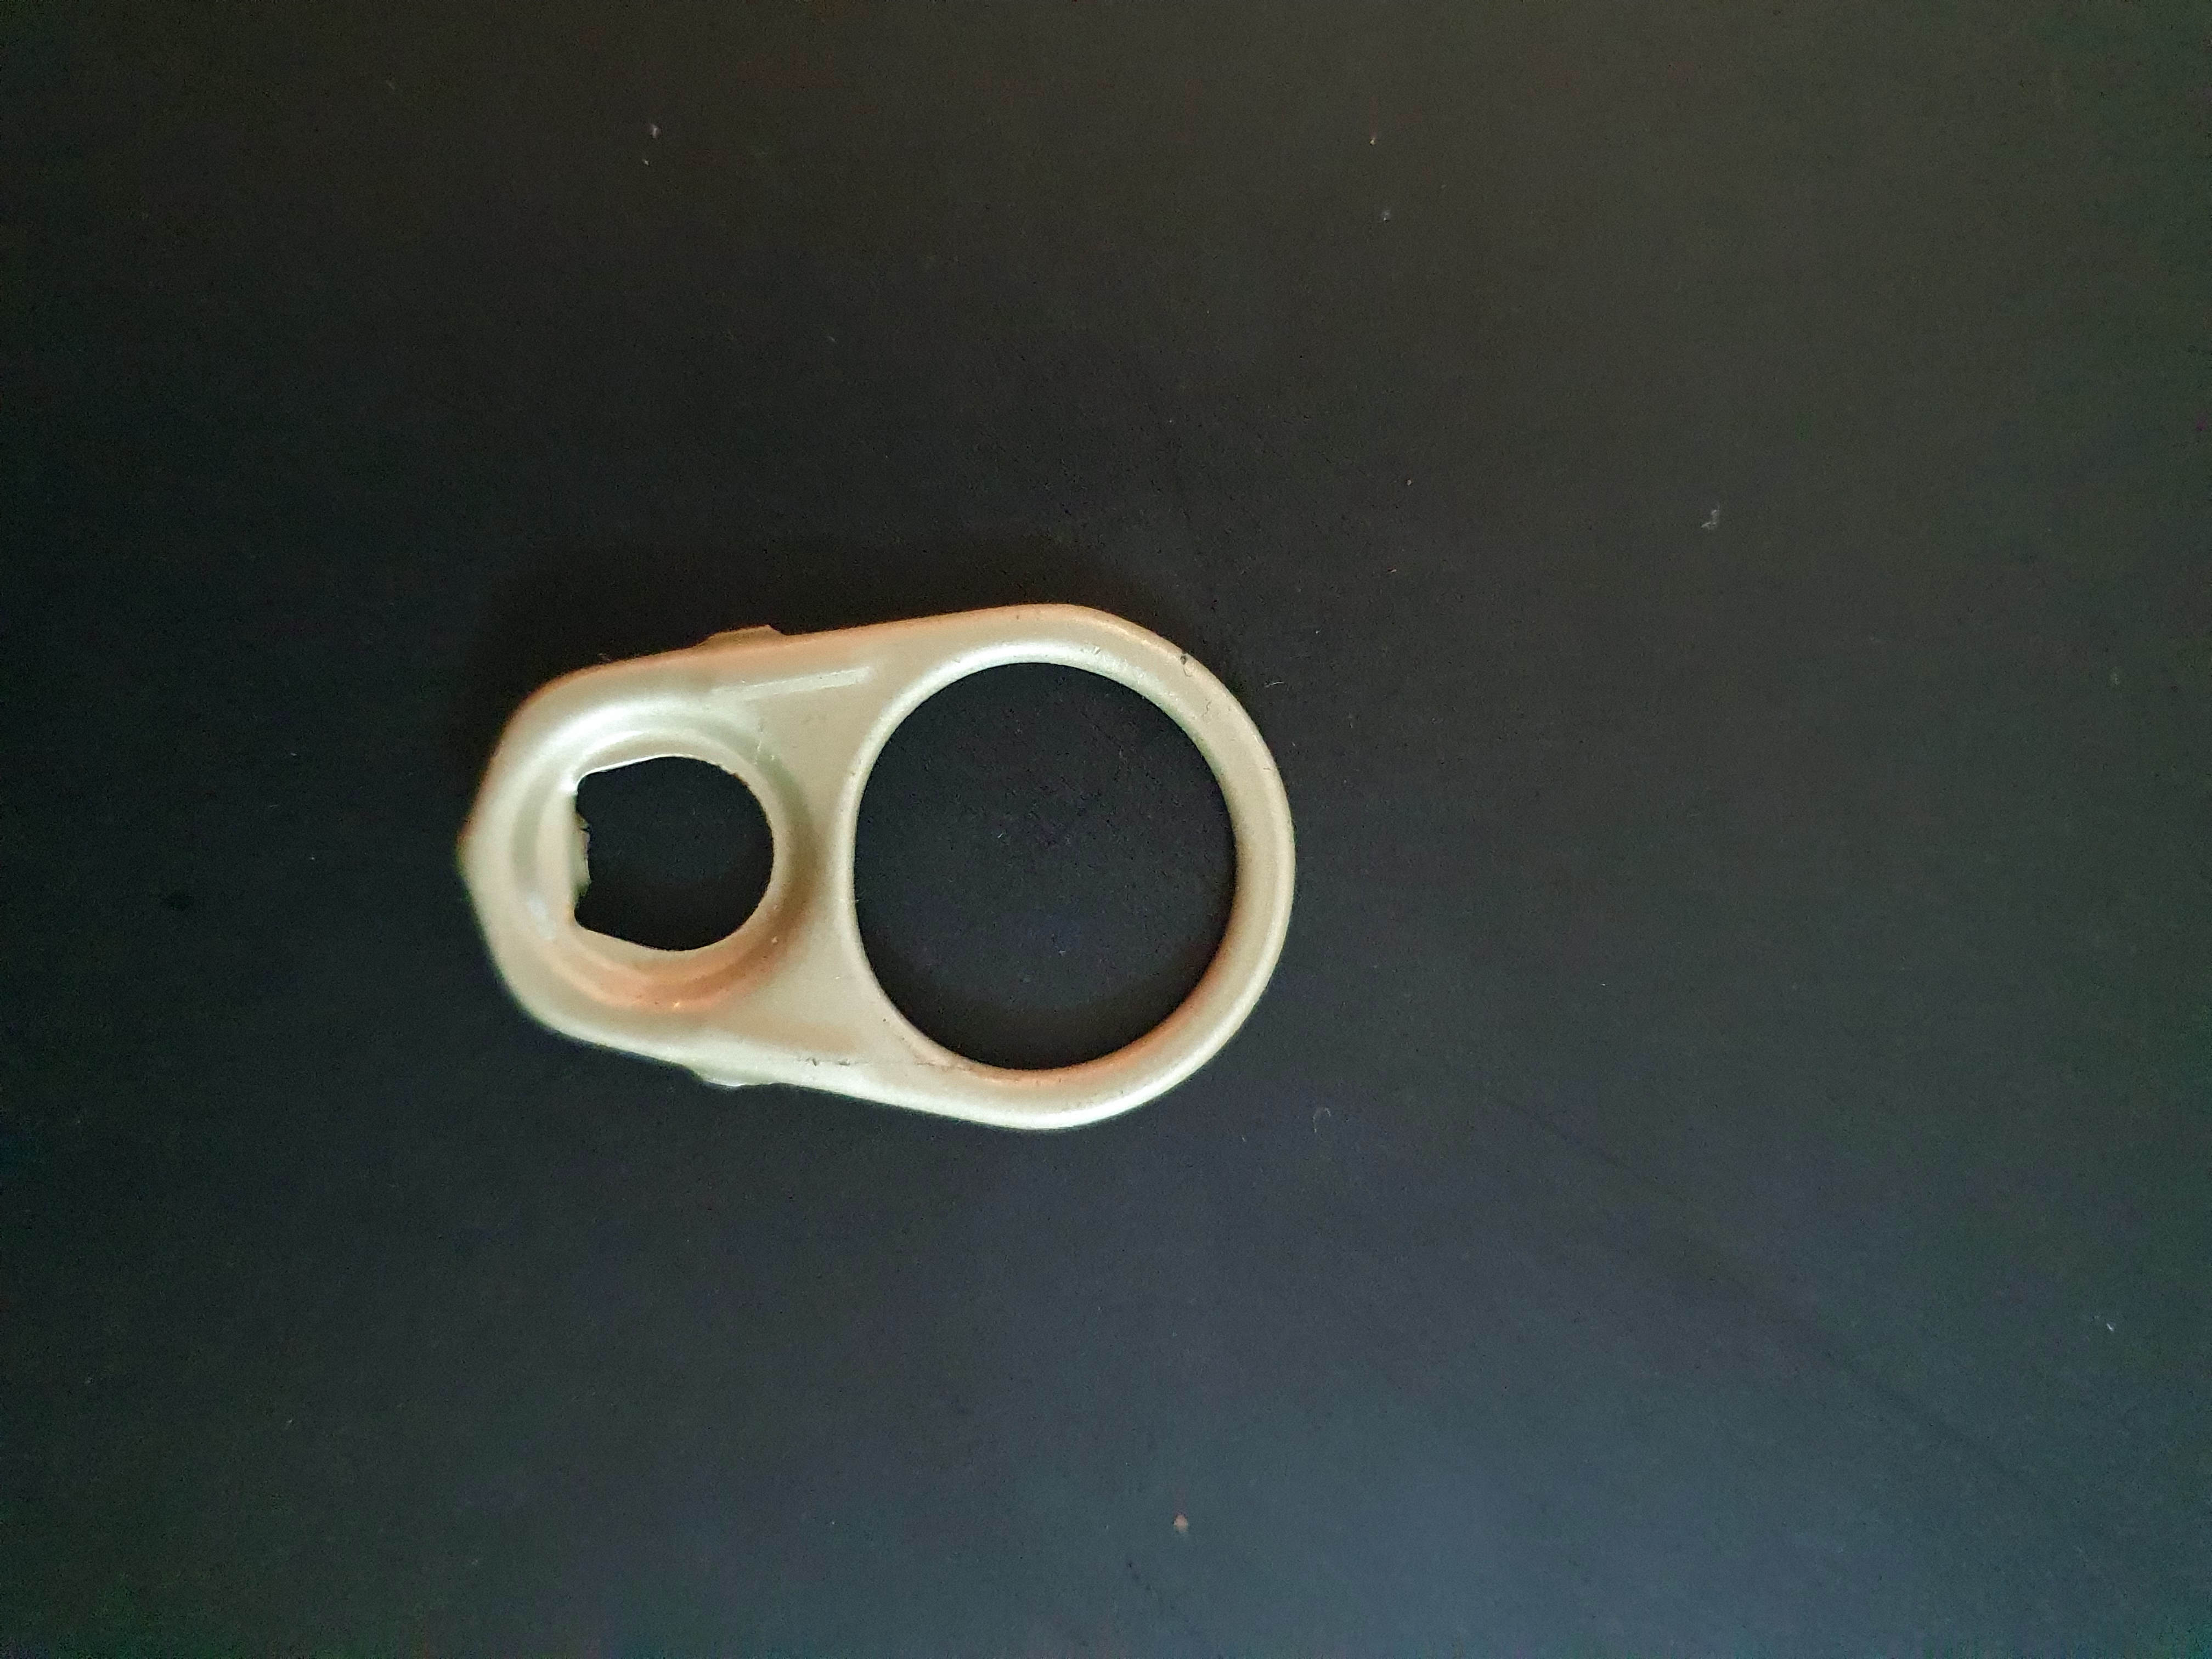metal: (413, 538, 1324, 1169)
